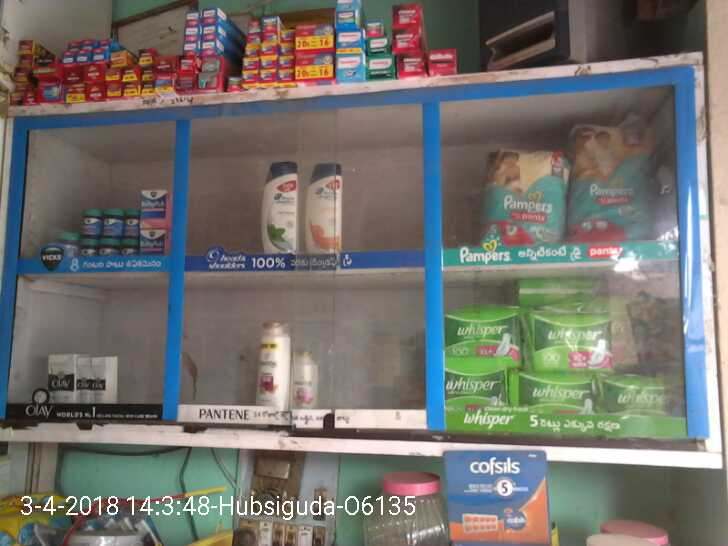vicks: (58, 187, 171, 259)
